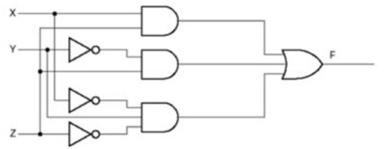and: (137, 45, 183, 83), (137, 3, 183, 39)
not: (65, 33, 104, 66), (65, 84, 103, 116), (64, 118, 103, 149)
